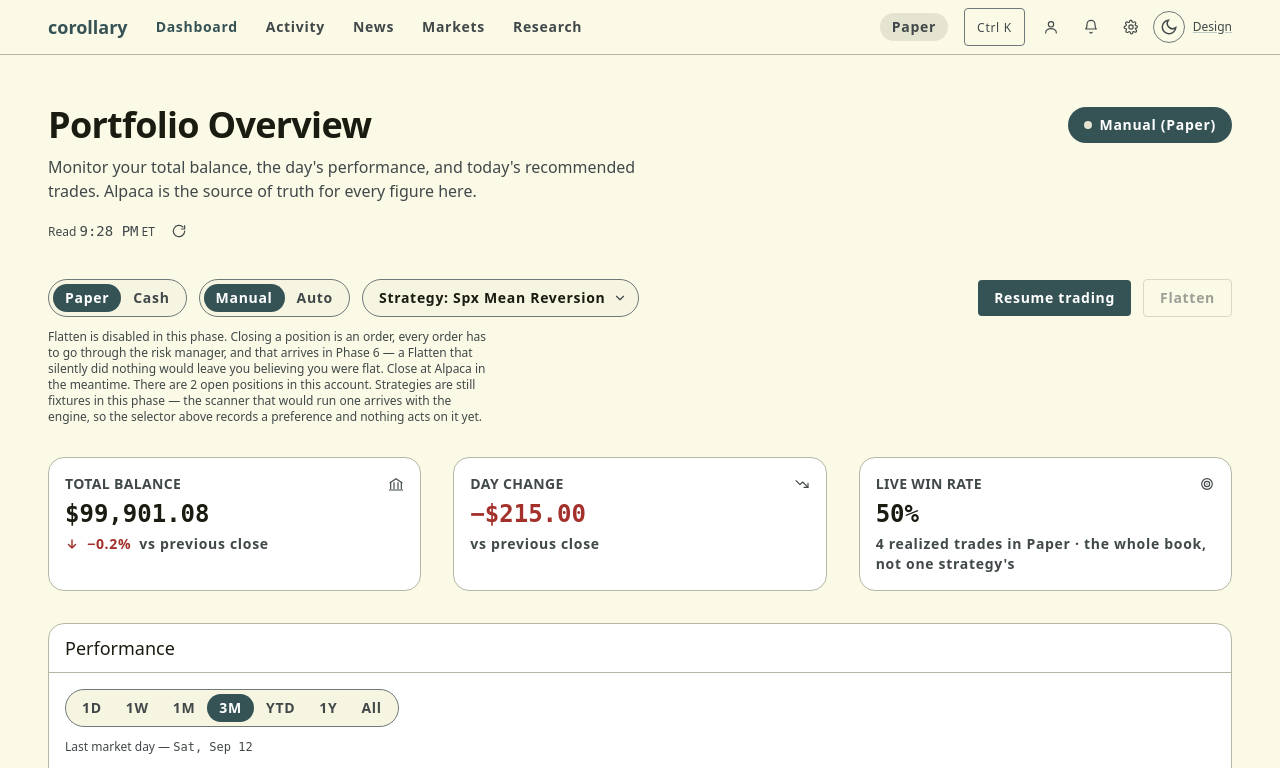
Trading-state pill › reads Halted in Auto while the engine is halted, and Trading On when it is not
Click the button "Auto": [315, 298] box [285,284,345,312]
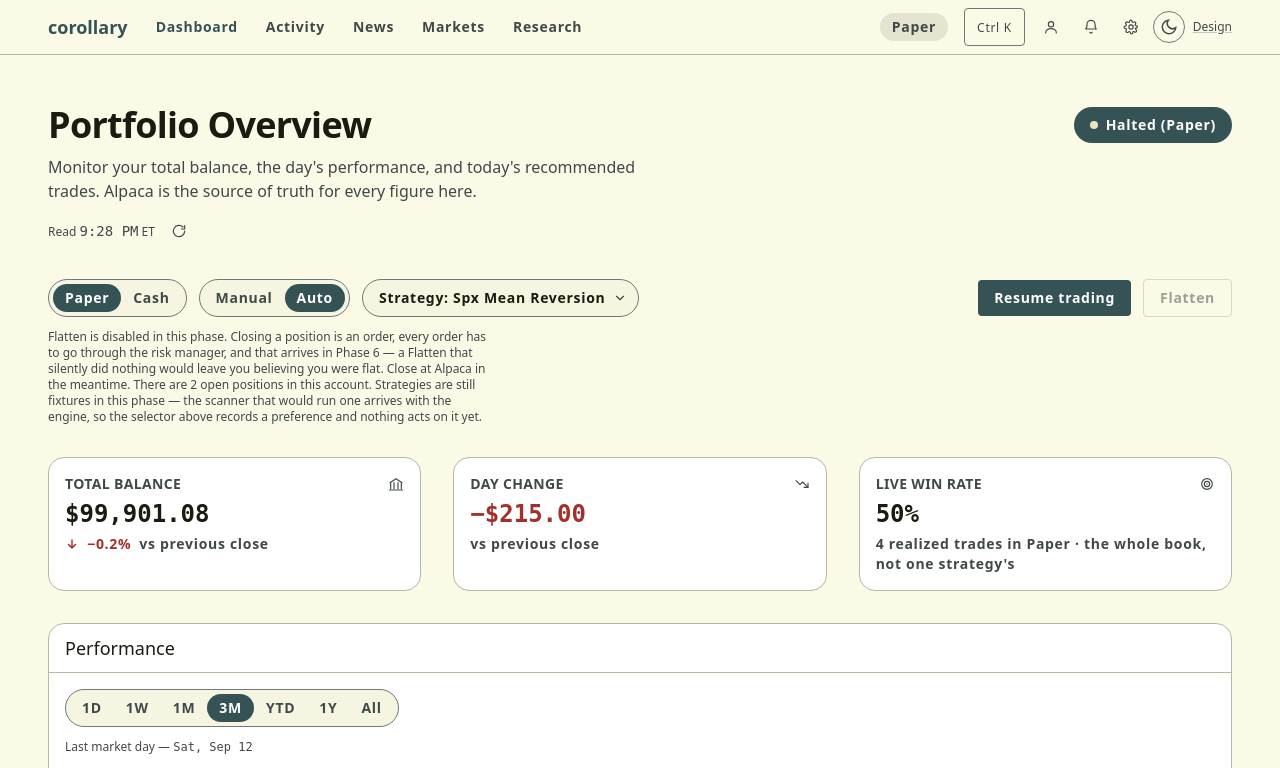
Check: the text "Halted (Paper)" is shown, box [1074,107,1232,143]
Click the button "Resume trading": [1055, 298] box [978,280,1131,316]
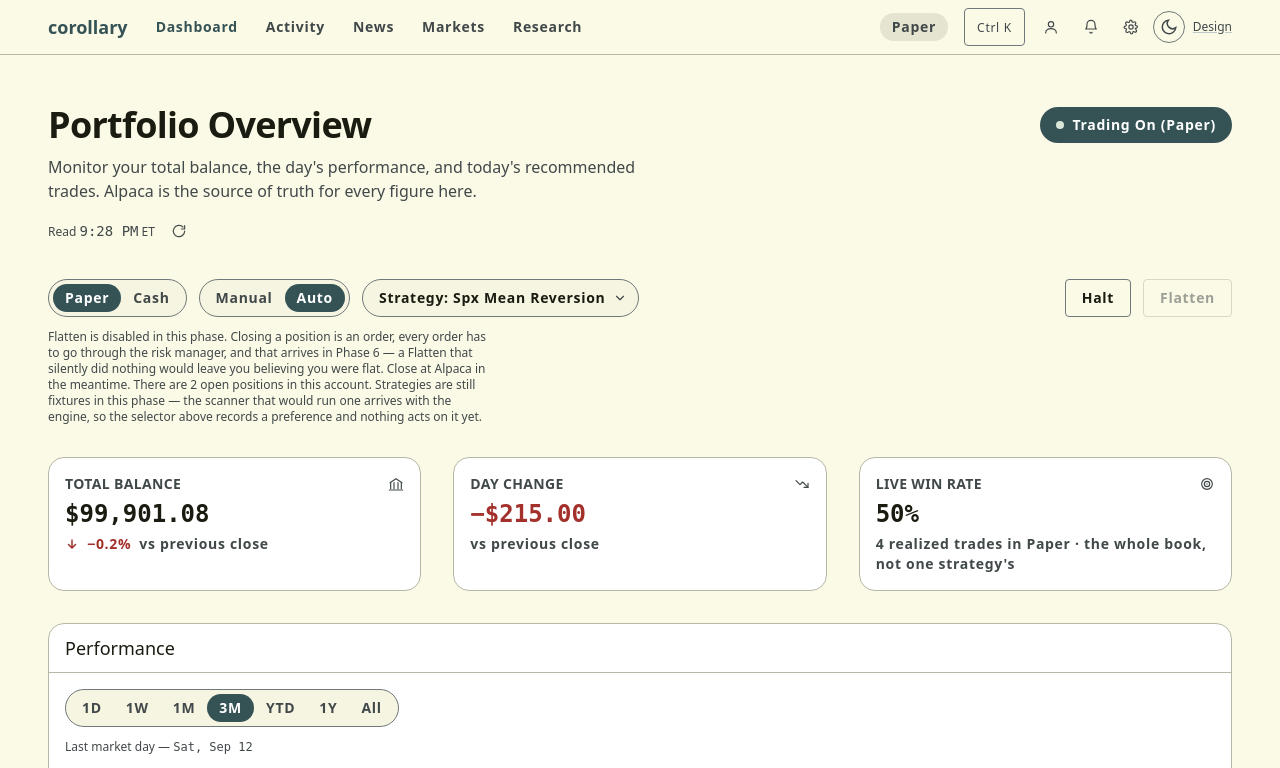
Check: the text "Trading On (Paper)" is shown, box [1040,107,1232,143]
